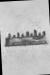Y5: (3, 0, 48, 74)
